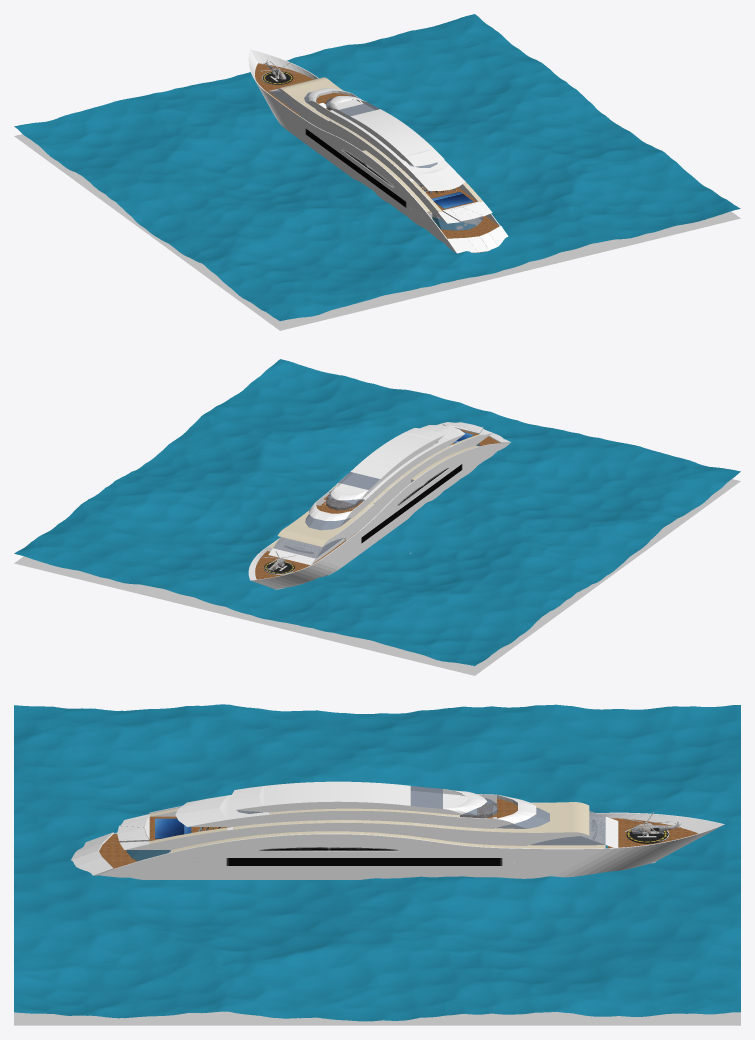
Rendered from ship-cruise-hq.glb.
The picture shows the model from 3 angles, top to bottom: view 1: azimuth 30°, elevation 25°; view 2: azimuth 150°, elevation 25°; view 3: azimuth 270°, elevation 25°; orthographic projection. The views are drawn at different scales.
Parts seen in each view (by area): view 1: Object_18, Object_71, Object_31, Object_19, Object_50, Object_51, Object_70, Object_69, Object_75; view 2: Object_18, Object_71, Object_31, Object_19, Object_70, Object_51, Object_50, Object_69, Object_75, Object_20; view 3: Object_18, Object_71, Object_19, Object_31, Object_51, Object_70, Object_69, Object_50, Object_75, Object_35.
Part boxes in pixels (left/top/right/bottom): Object_18: left=14, top=14, right=740, bottom=321; Object_71: left=248, top=49, right=508, bottom=253; Object_31: left=14, top=134, right=740, bottom=330; Object_19: left=153, top=143, right=733, bottom=318; Object_50: left=255, top=63, right=499, bottom=238; Object_51: left=279, top=77, right=483, bottom=229; Object_70: left=273, top=90, right=483, bottom=230; Object_69: left=305, top=128, right=406, bottom=207; Object_75: left=289, top=116, right=432, bottom=219; Object_18: left=14, top=359, right=740, bottom=666; Object_71: left=248, top=422, right=510, bottom=589; Object_31: left=14, top=479, right=740, bottom=675; Object_19: left=217, top=361, right=734, bottom=572; Object_70: left=273, top=441, right=480, bottom=558; Object_51: left=268, top=424, right=480, bottom=547; Object_50: left=255, top=429, right=499, bottom=579; Object_69: left=361, top=464, right=462, bottom=543; Object_75: left=345, top=452, right=477, bottom=555; Object_20: left=273, top=537, right=323, bottom=558; Object_18: left=14, top=704, right=740, bottom=1021; Object_71: left=71, top=781, right=724, bottom=879; Object_19: left=17, top=706, right=377, bottom=1016; Object_31: left=14, top=1011, right=740, bottom=1025; Object_51: left=149, top=802, right=605, bottom=852; Object_70: left=126, top=786, right=605, bottom=861; Object_69: left=226, top=847, right=502, bottom=865; Object_50: left=99, top=798, right=698, bottom=868; Object_75: left=169, top=847, right=545, bottom=868; Object_35: left=155, top=818, right=191, bottom=838.
Size of the model in its own units: 1000 by 122 by 1000.
Materials: 62 (32 with a texture image).
